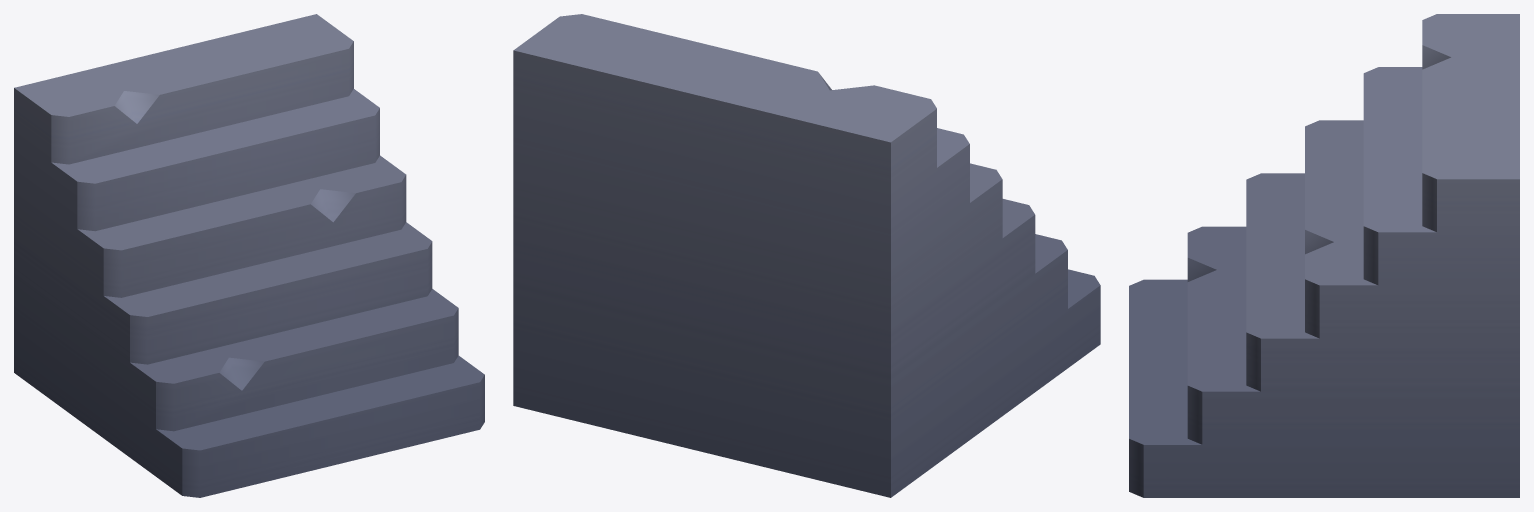
The model's file is stairs.glb.
The picture shows the model from 3 angles, left to right: view 1: azimuth 30°, elevation 25°; view 2: azimuth 150°, elevation 25°; view 3: azimuth 270°, elevation 25°; orthographic projection. The views are drawn at different scales.
Parts seen in each view (by area): view 1: stairs; view 2: stairs; view 3: stairs.
Part boxes in pixels (x1,y1,x2,y2): stairs: [14, 14, 484, 497]; stairs: [513, 14, 1100, 497]; stairs: [1129, 14, 1519, 497].
Bounding box in the file's own units: 1 × 0.9 × 1.
1 material, 1 textured.
